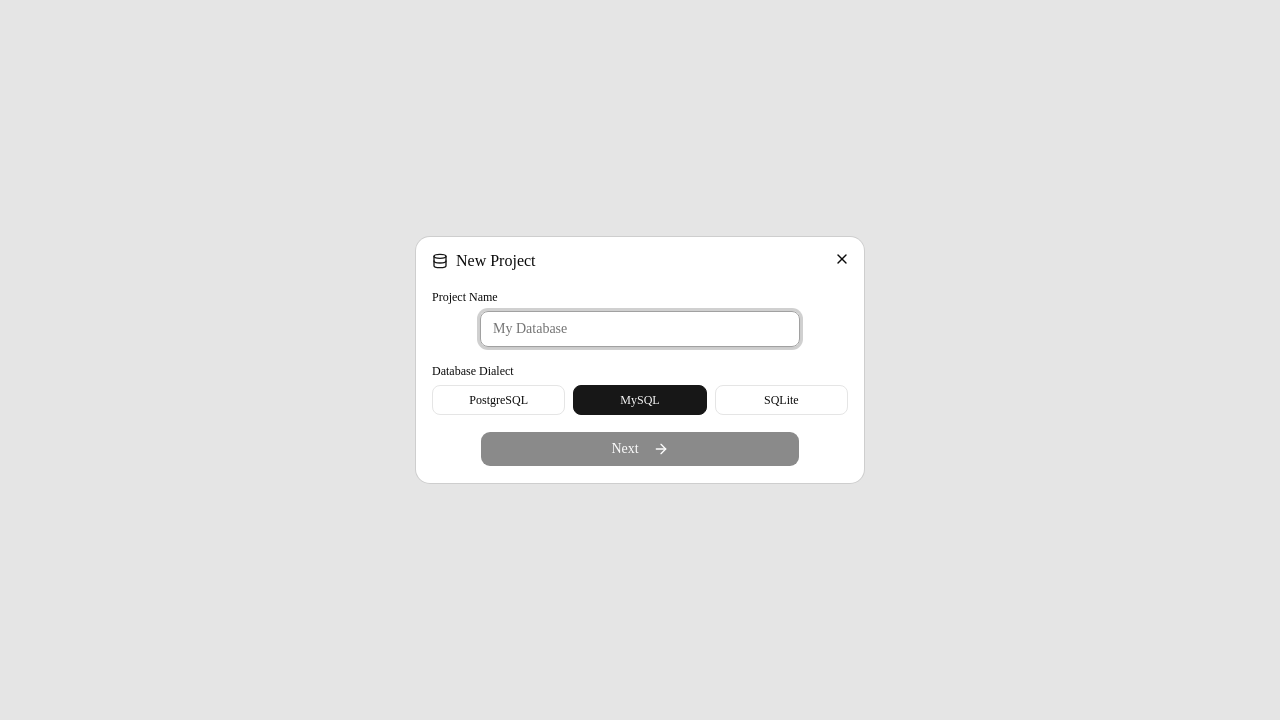
Test: NewProjectWizard › goes back to step 1 on Back click
Type "Test" into the field with placeholder "My Database".
click(640, 329); type("Test")  # box [480, 311, 800, 347]
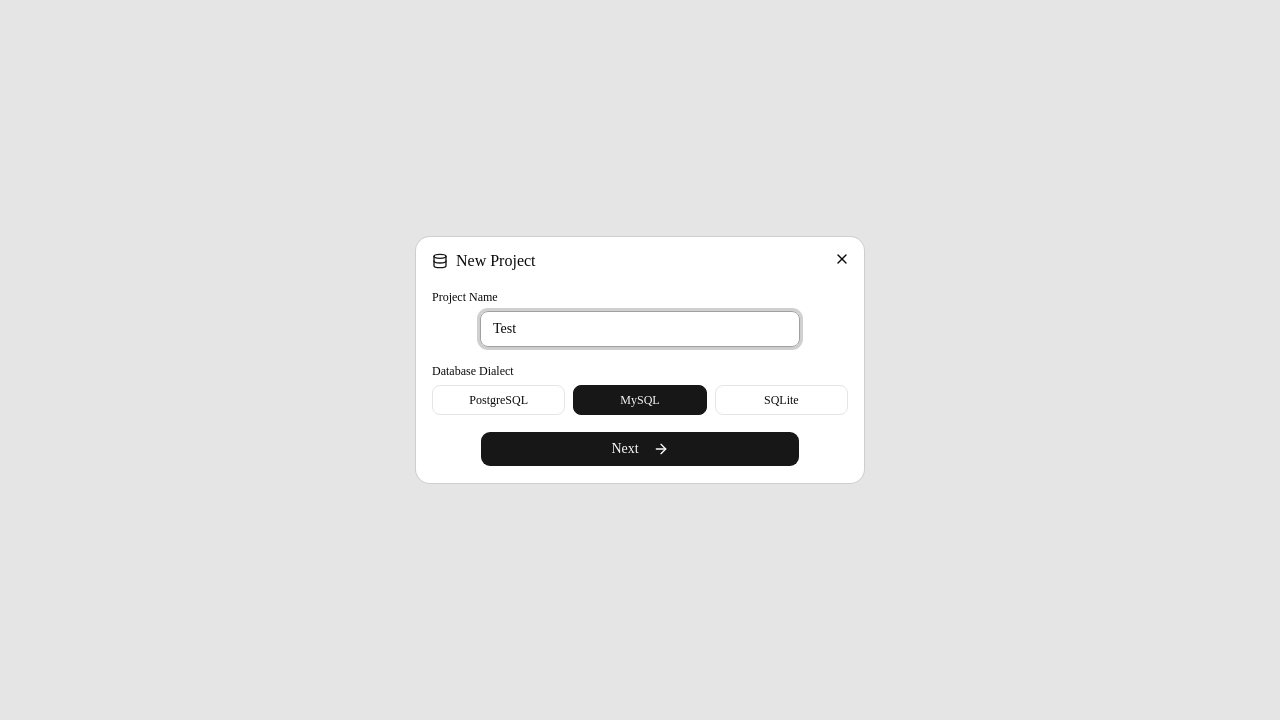
Click the button "Next".
click(640, 449)  # box [480, 431, 800, 467]
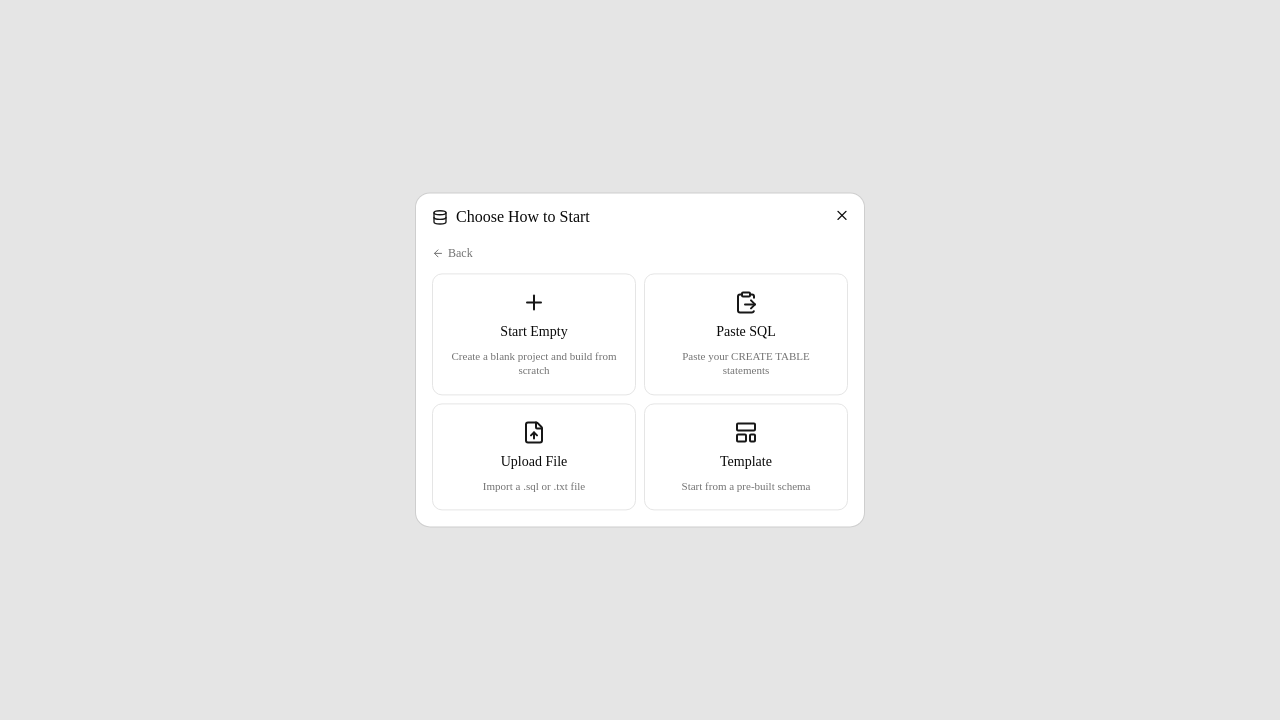
Click the button "Back".
click(452, 253)  # box [432, 245, 473, 261]
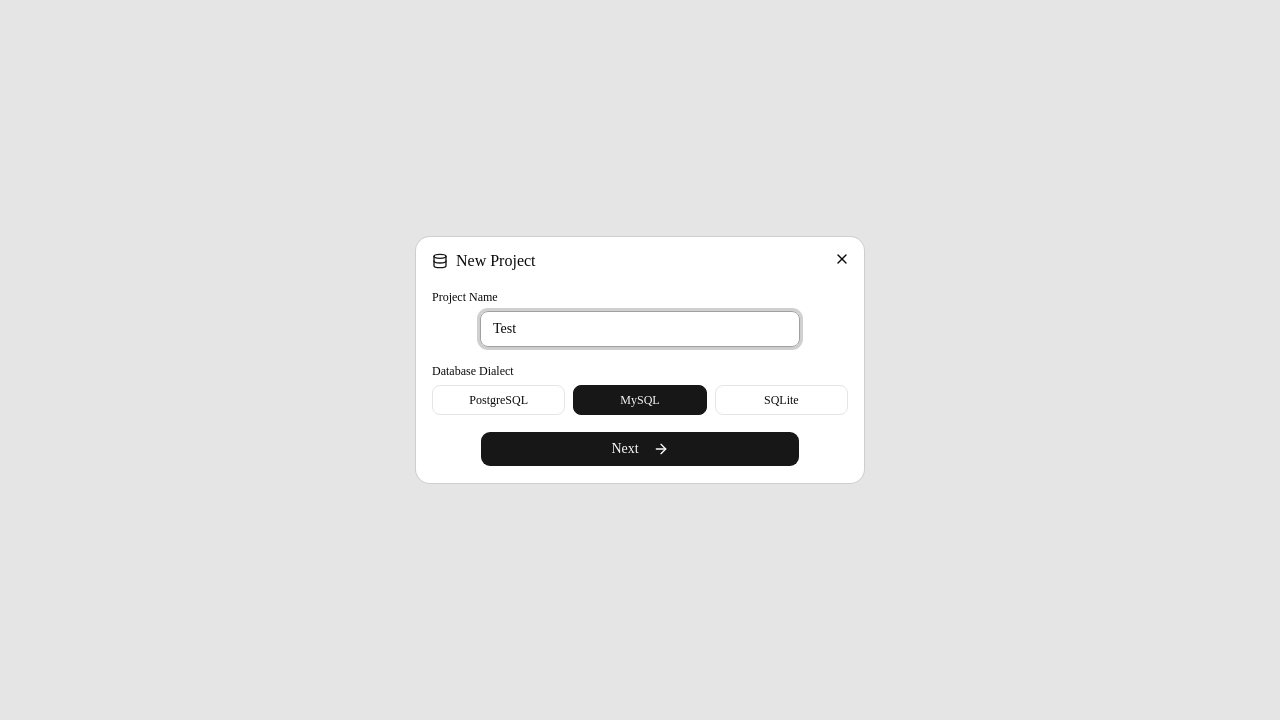
expect the text "Project Name" is shown: met, box [432, 290, 498, 304]
